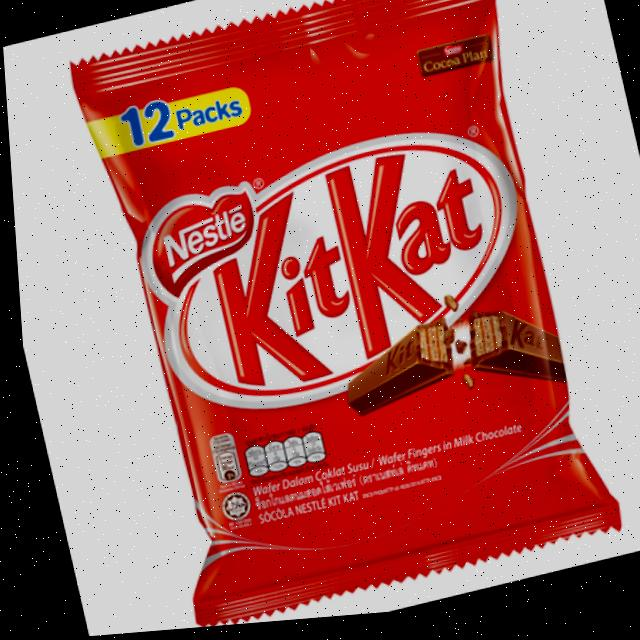kitkat: (63, 0, 622, 636)
